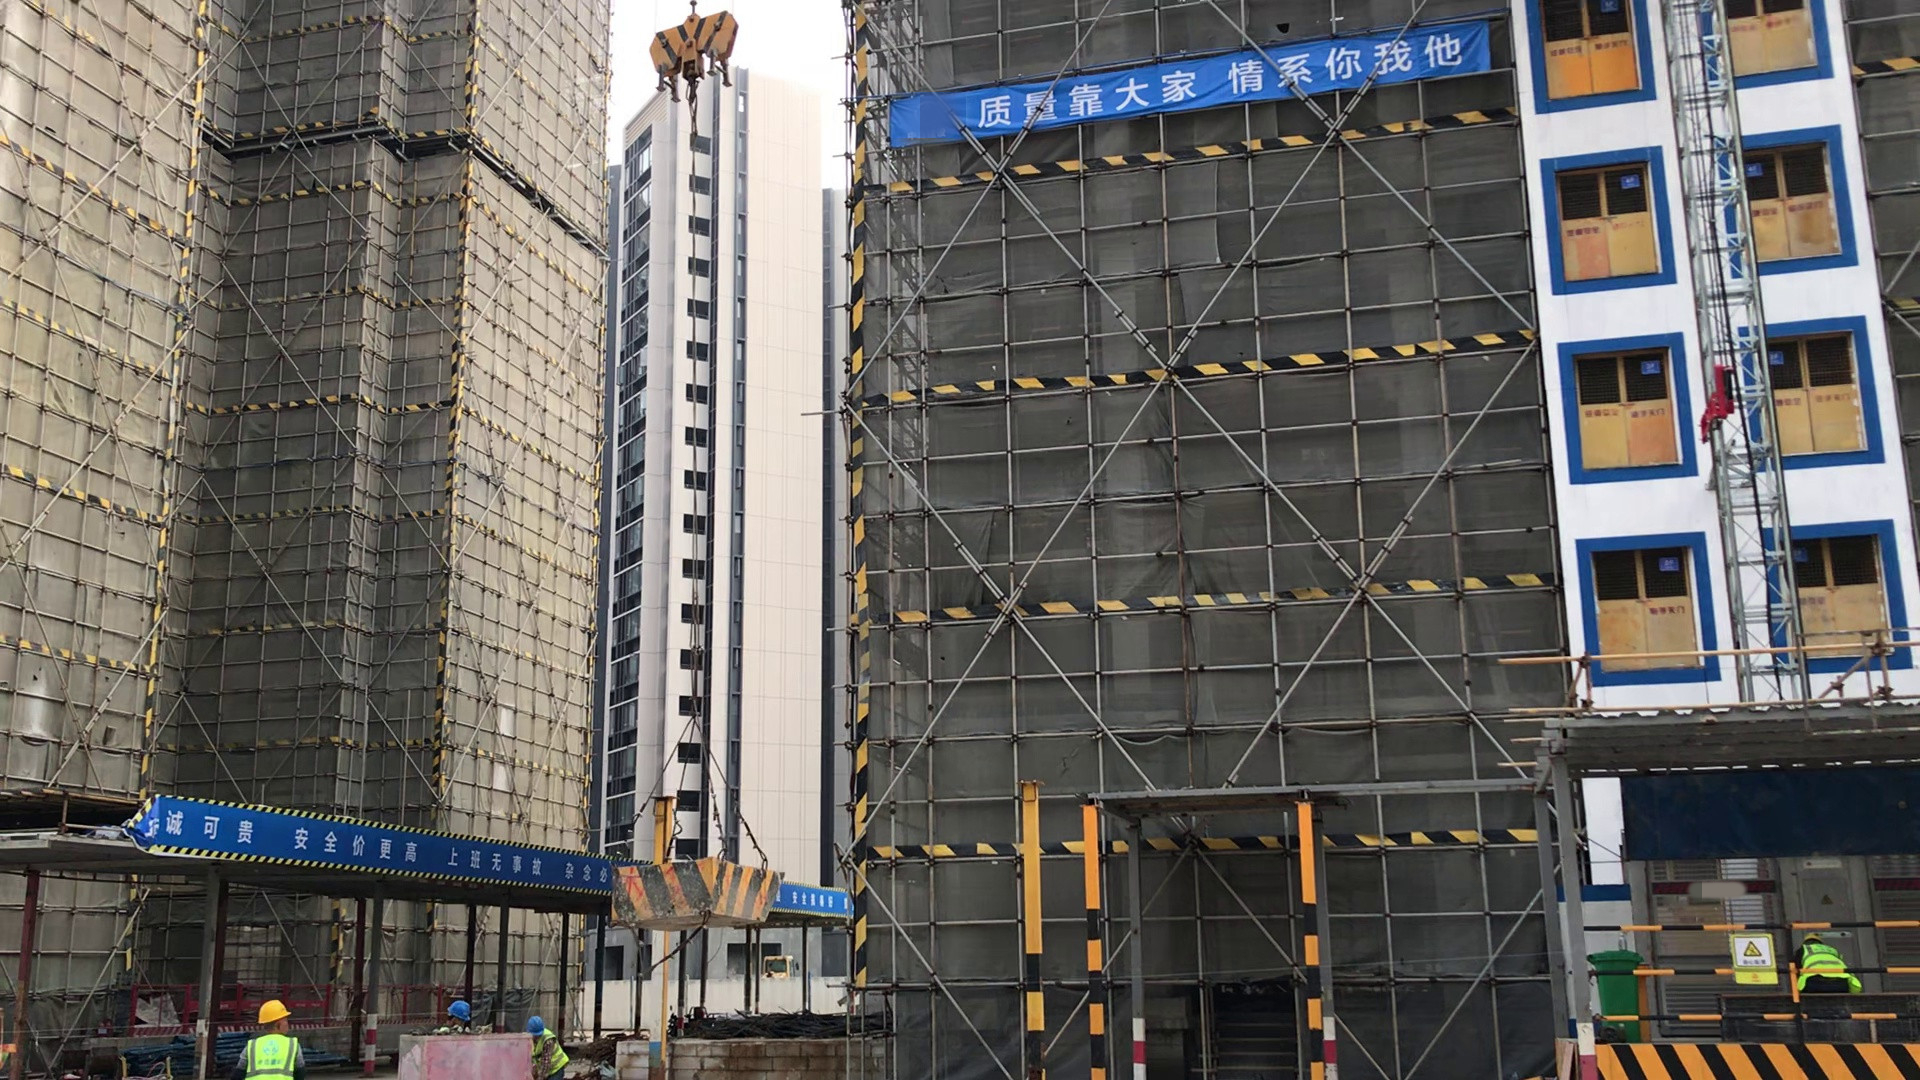fence: (131, 984, 444, 1035)
helmet: (256, 998, 290, 1024), (449, 1000, 470, 1022), (529, 1016, 544, 1034)
hook: (651, 11, 739, 97)
hopper: (612, 860, 781, 937)
person: (238, 999, 306, 1080), (1795, 935, 1861, 995), (528, 1016, 570, 1080)
slogan: (151, 793, 850, 918), (961, 19, 1488, 139)
vest: (1797, 944, 1861, 993), (246, 1034, 298, 1080), (531, 1029, 569, 1076)
